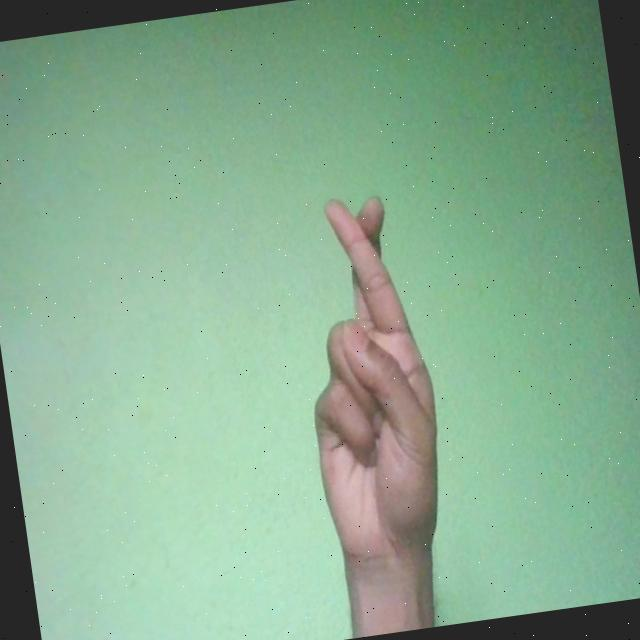Ok: (282, 184, 457, 576)
